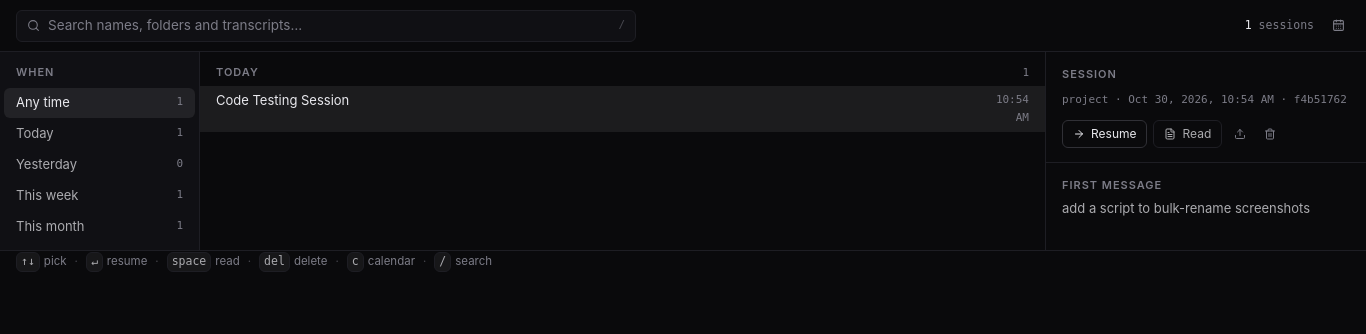
Scenario: SessionHistoryPanel › a search term matching only the name does not fall into the "no results" empty state
Expected: the text "Code Testing Session" is shown, [216,92,349,108]
Type "zzz-not-a-match" into the field with placeholder "Search names, folders and transcripts…" at (329, 26), box [48,15,610,36]
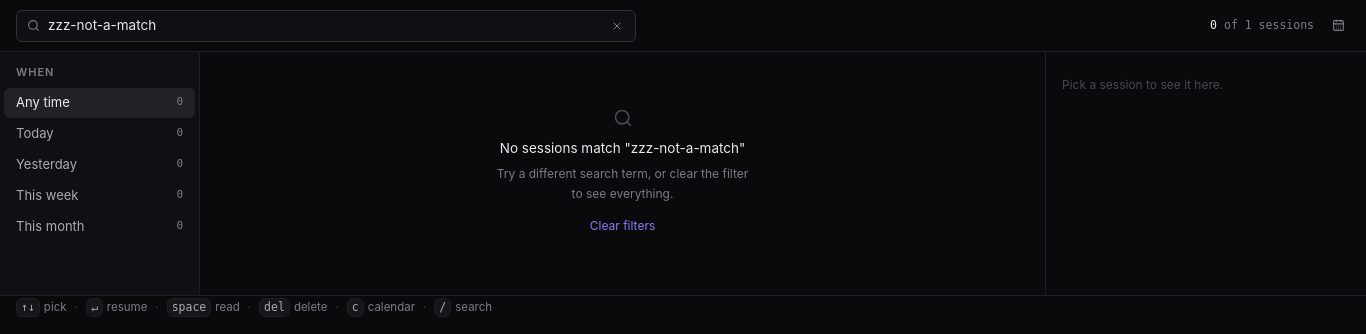
Now the text "No sessions match \"zzz-not-a-match\"" is shown, box [500,138,745,158]
